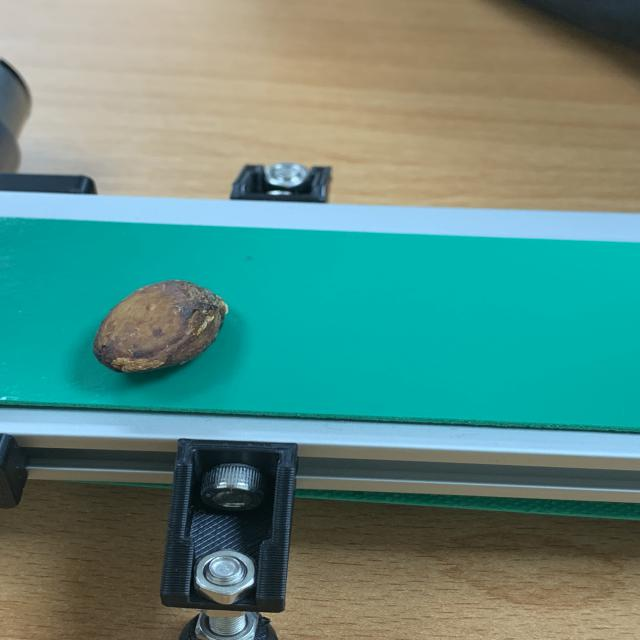Fine_cocoabeans: (16, 262, 295, 424)
